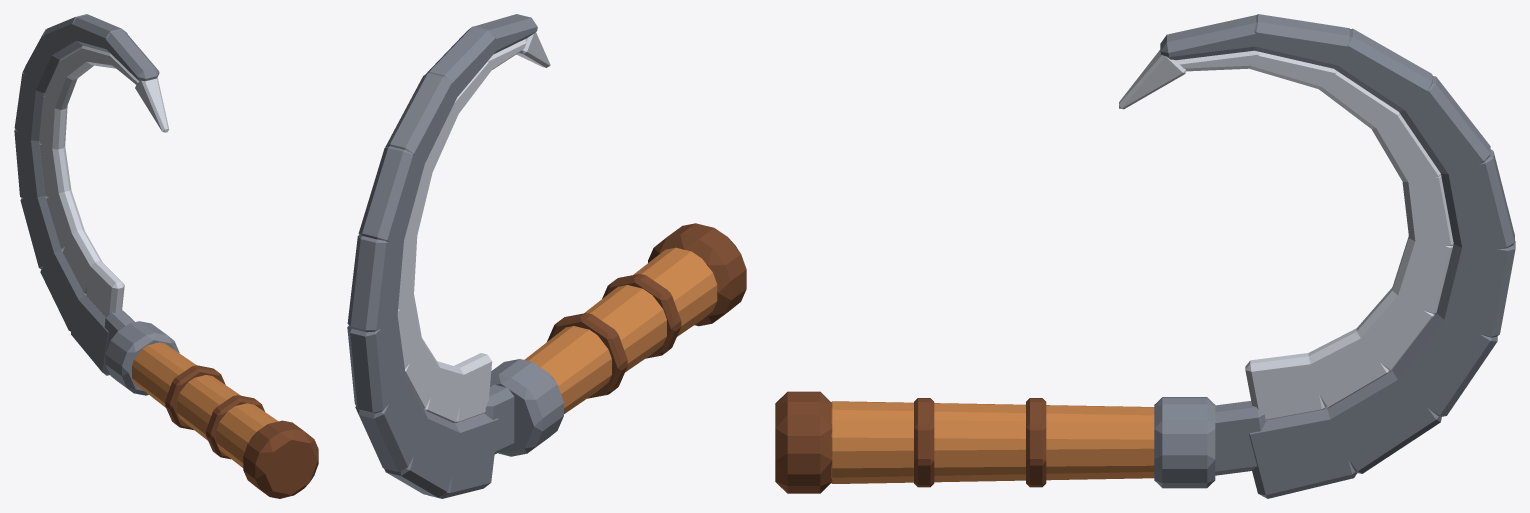
The model's file is tool_sickle.glb.
The picture shows the model from 3 angles, left to right: view 1: azimuth 30°, elevation 25°; view 2: azimuth 150°, elevation 25°; view 3: azimuth 270°, elevation 25°; orthographic projection. The views are drawn at different scales.
Visible parts, largest first — view 1: Metal__808692, Metal__D0D4DE, Wood__78482C, Wood__CC8448; view 2: Metal__808692, Wood__CC8448, Metal__D0D4DE, Wood__78482C; view 3: Metal__808692, Metal__D0D4DE, Wood__CC8448, Wood__78482C.
Part boxes in pixels (x1=…): Metal__808692: x1=14, y1=14, x2=179, y2=395; Metal__D0D4DE: x1=39, y1=45, x2=169, y2=317; Wood__78482C: x1=165, y1=365, x2=318, y2=498; Wood__CC8448: x1=132, y1=342, x2=278, y2=467; Metal__808692: x1=347, y1=14, x2=563, y2=498; Wood__CC8448: x1=524, y1=247, x2=717, y2=413; Metal__D0D4DE: x1=397, y1=32, x2=550, y2=422; Wood__78482C: x1=547, y1=223, x2=746, y2=398; Metal__808692: x1=1154, y1=14, x2=1515, y2=498; Metal__D0D4DE: x1=1119, y1=50, x2=1453, y2=419; Wood__CC8448: x1=831, y1=401, x2=1154, y2=483; Wood__78482C: x1=775, y1=391, x2=1046, y2=493.
Size of the model in its own units: 0.4941 by 2.59 by 3.63.
